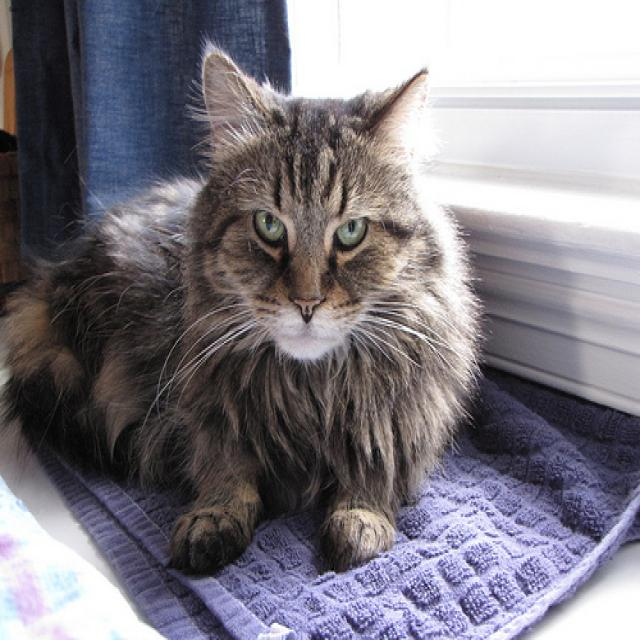cat: (200, 41, 426, 357)
